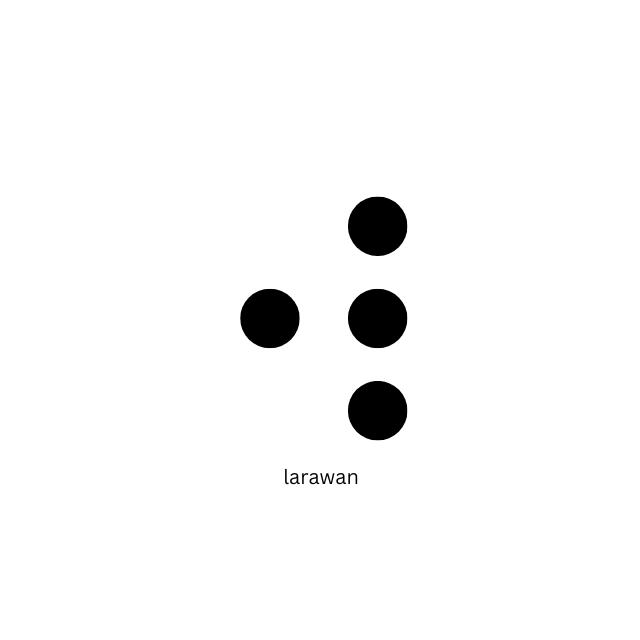dot_5: (154, 193, 301, 439)
two_cell_alphabet_larawan: (345, 196, 492, 442)
